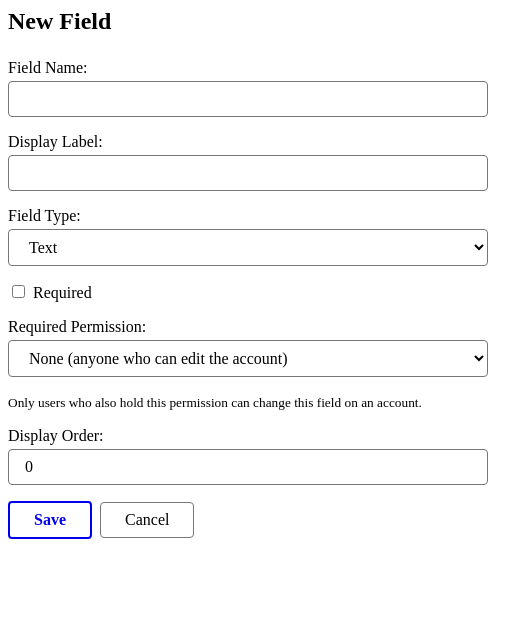
Test: FieldMetadataEdit field type and reference table › falls back to a text box for the table when the list cannot be read
Select "Dropdown" in the dropdown labelled "Field Type:" at {"x": 248, "y": 248}, box top-left (8, 229), bottom-right (488, 266)
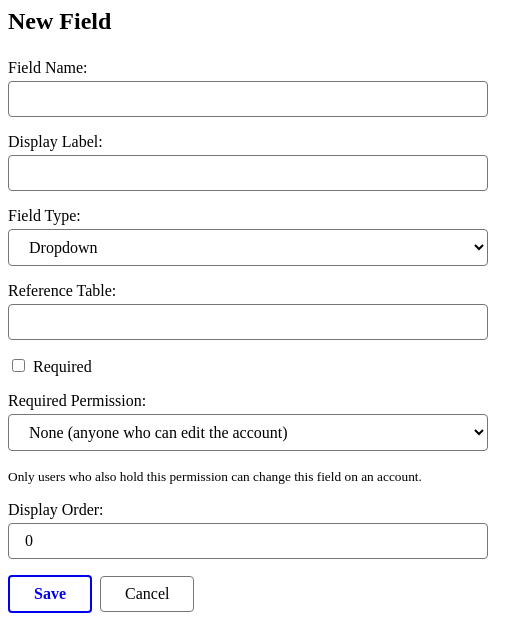
Expected: the field labelled "Reference Table:" is shown, top-left (8, 304), bottom-right (488, 340)
